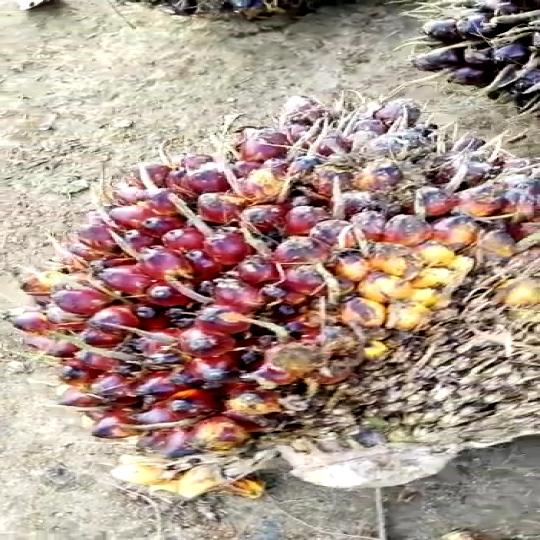kurang masak: (7, 101, 540, 502)
